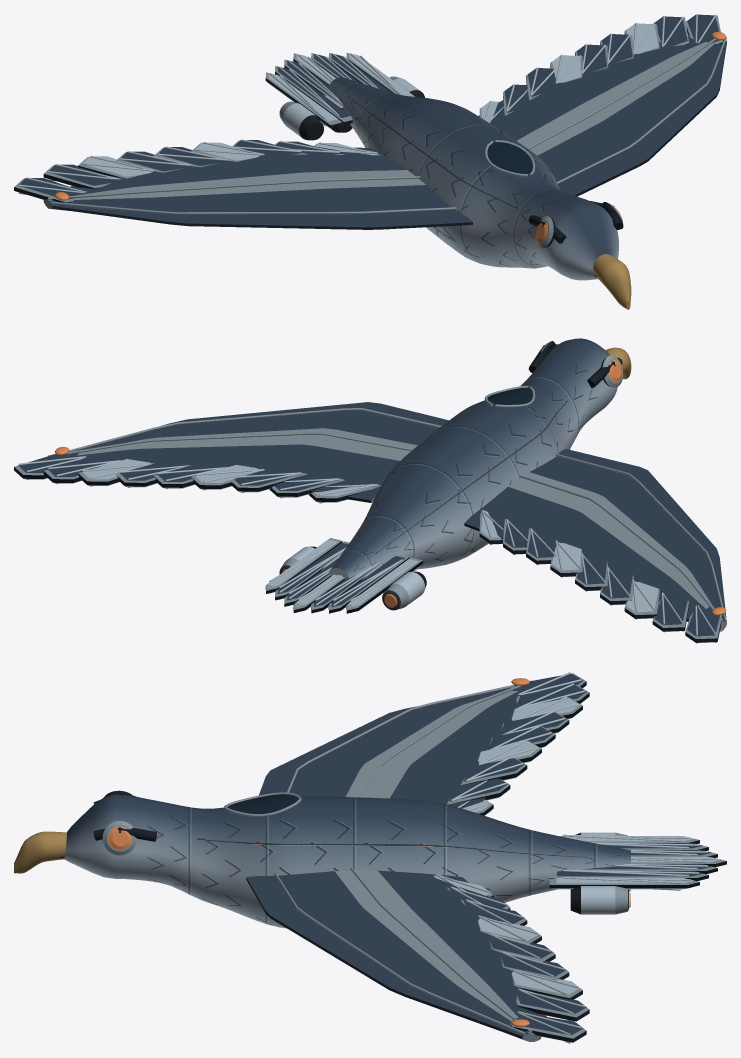
File: falcon.glb
The picture shows the model from 3 angles, top to bottom: view 1: azimuth 30°, elevation 25°; view 2: azimuth 150°, elevation 25°; view 3: azimuth 270°, elevation 25°; orthographic projection. The views are drawn at different scales.
Parts seen in each view (by area): view 1: falcon_hull; view 2: falcon_hull; view 3: falcon_hull.
Part boxes in pixels (x1,y1,x2,y2): falcon_hull: (14,14,726,309); falcon_hull: (14,338,726,643); falcon_hull: (14,672,726,1043).
Size of the model in its own units: 68 by 10.83 by 56.07.
1 material, 1 textured.
